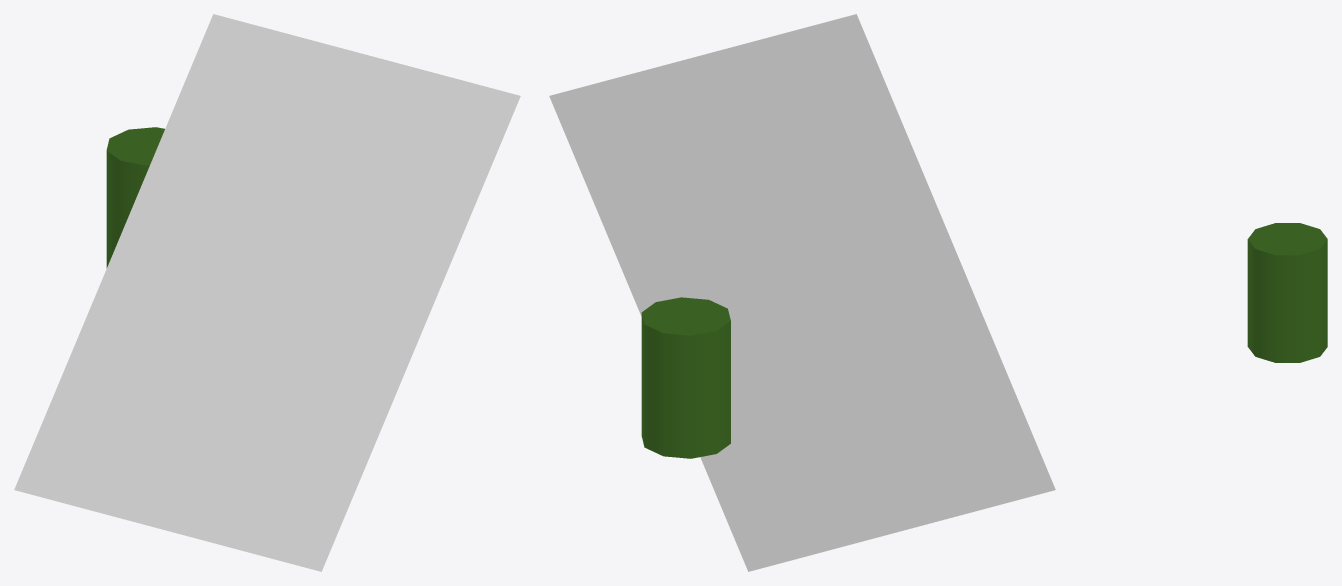
File: mdl-ingredient-negi-r4-b1.glb
The picture shows the model from 3 angles, left to right: view 1: azimuth 30°, elevation 25°; view 2: azimuth 150°, elevation 25°; view 3: azimuth 270°, elevation 25°; orthographic projection. The views are drawn at different scales.
Parts seen in each view (by area): view 1: pixel-material-plane, negi-body; view 2: pixel-material-plane, negi-body; view 3: negi-body.
Part boxes in pixels (x1,y1,x2,y2): pixel-material-plane: (14,14,520,571); negi-body: (106,127,164,268); pixel-material-plane: (549,14,1055,571); negi-body: (641,297,730,458); negi-body: (1247,223,1327,362).
Bounding box in the file's own units: 0.2844 × 0.3134 × 0.1352.
